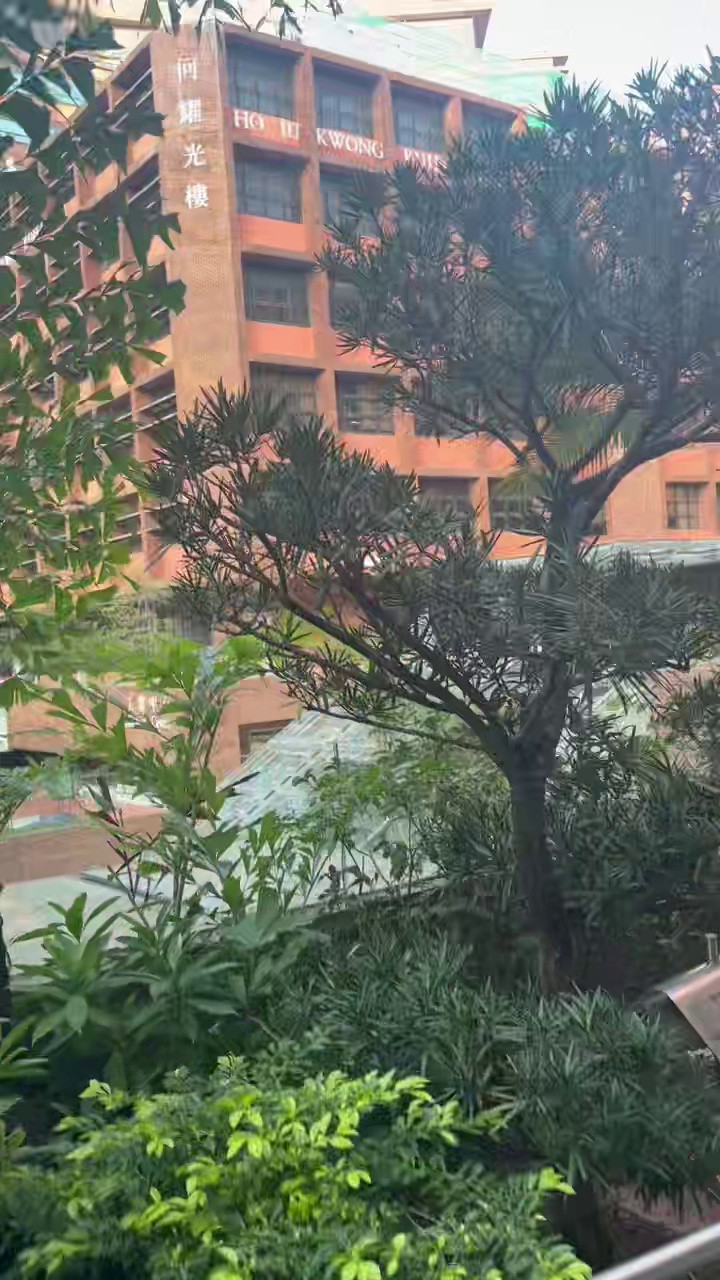Podocarpus macrophyllus: (156, 60, 719, 979)
